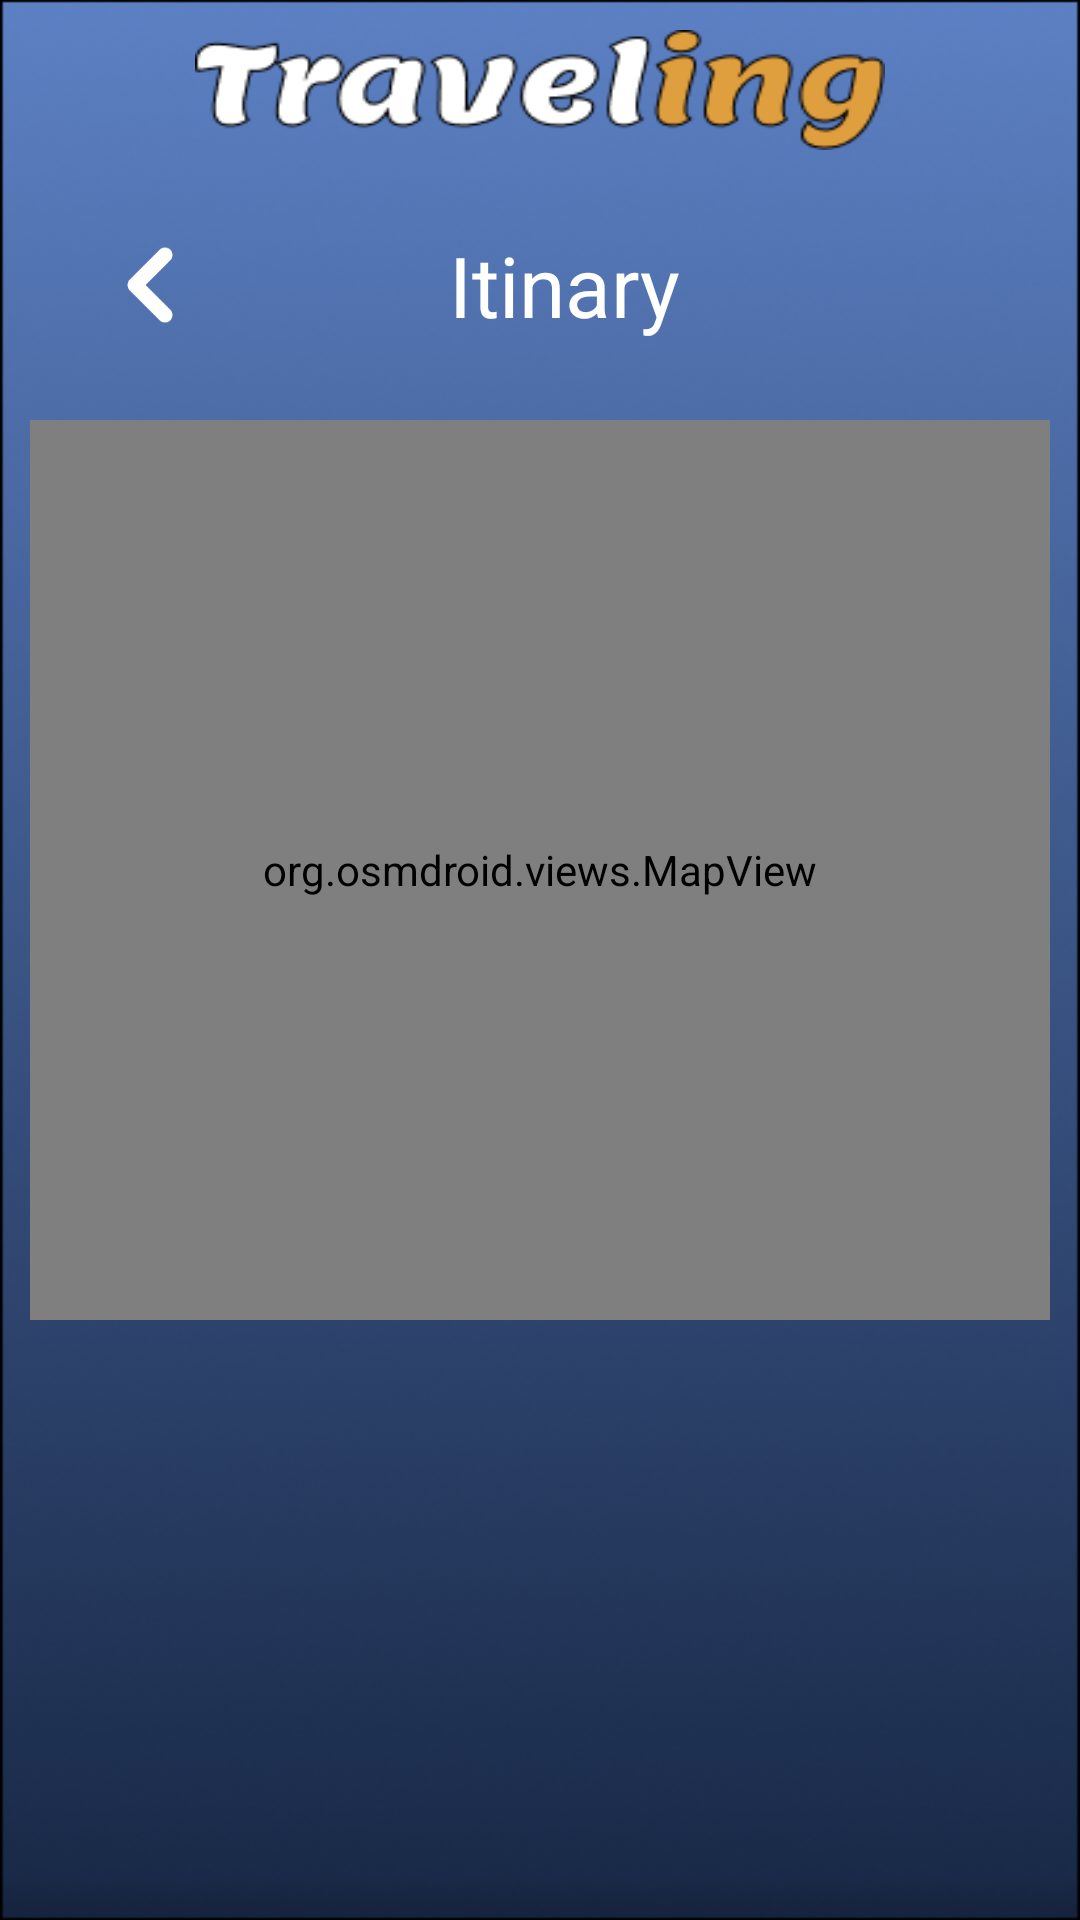

Where icons sit on this 1080×1920 app screen, as region(x1, y1, x2, y2):
chevron left: region(127, 247, 173, 323)
